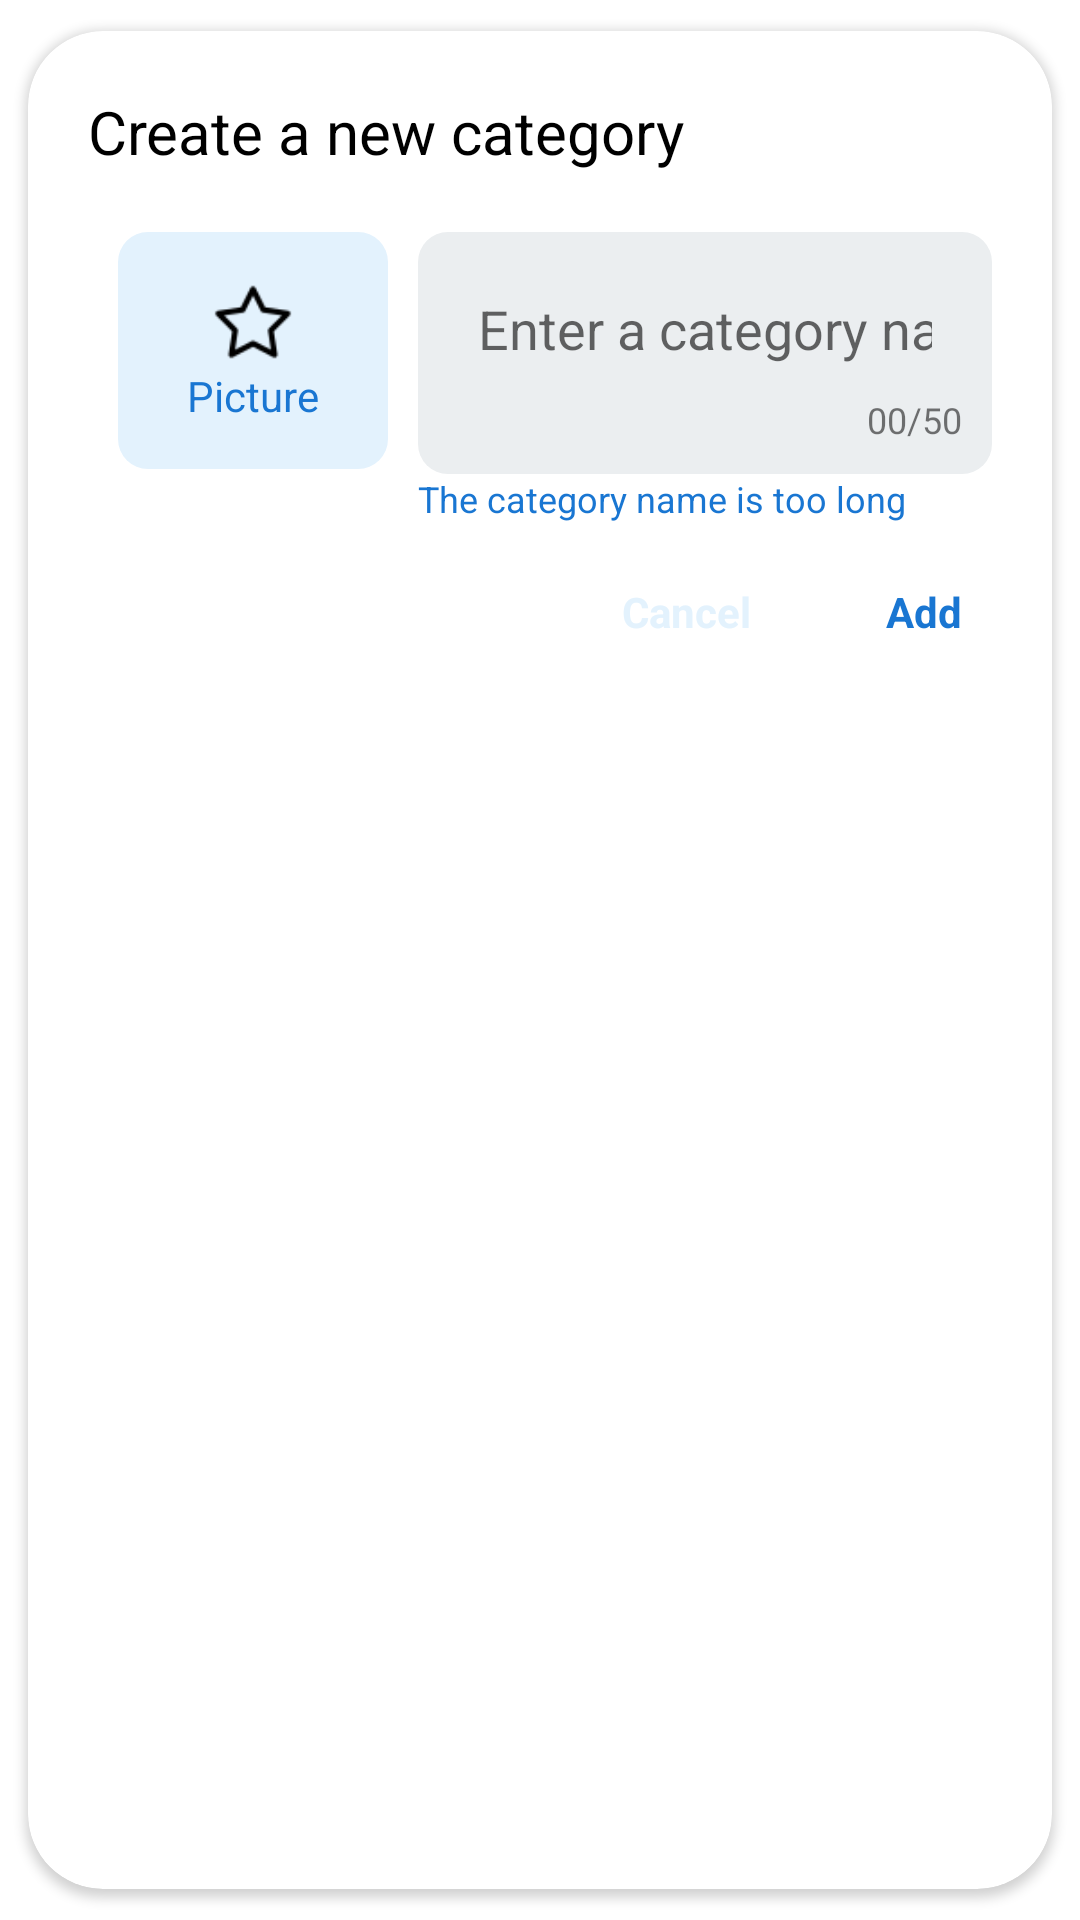

Icon bounding boxes for this 1080 × 1920 phone screenshot, format (x1, y1, x2, y2):
star: (215, 285, 291, 359)
